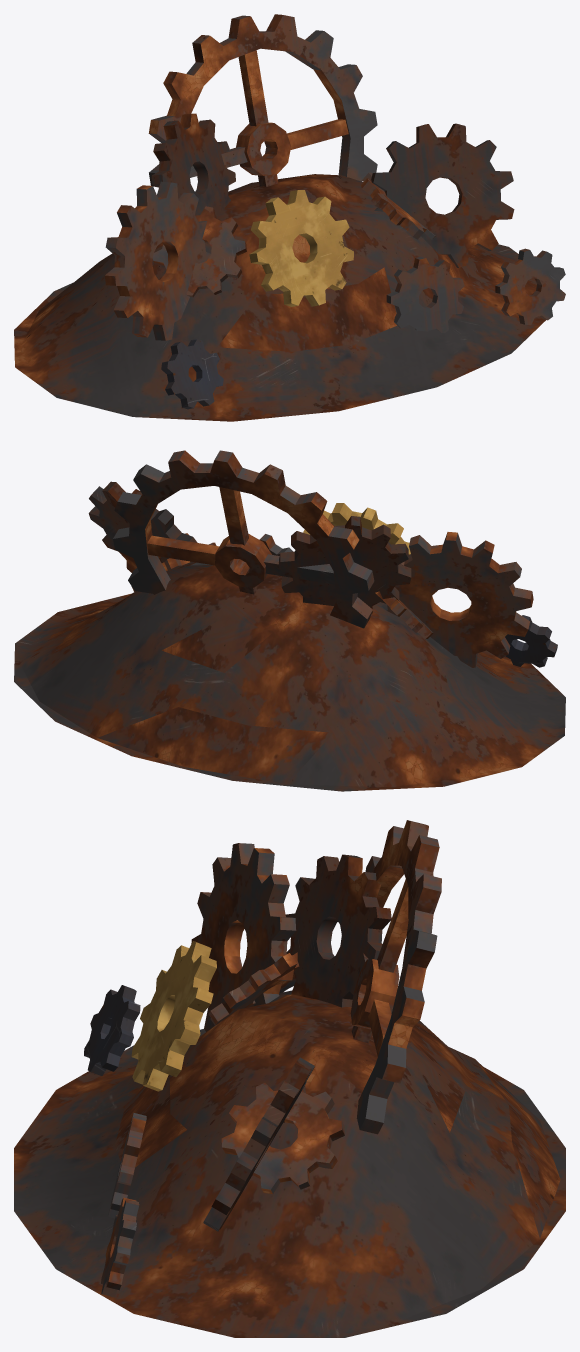
Rendered from Gear_Heap.glb.
The picture shows the model from 3 angles, top to bottom: view 1: azimuth 30°, elevation 25°; view 2: azimuth 150°, elevation 25°; view 3: azimuth 270°, elevation 25°; orthographic projection. The views are drawn at different scales.
Parts seen in each view (by area): view 1: Gear_Heap; view 2: Gear_Heap; view 3: Gear_Heap.
Boxes of the visible parts, x1,y1,x2,y2 form: Gear_Heap: (14,14,565,421); Gear_Heap: (14,450,565,791); Gear_Heap: (14,820,565,1337).
Size of the model in its own units: 1.94 by 0.9954 by 1.43.
Materials: 4 (4 with a texture image).
